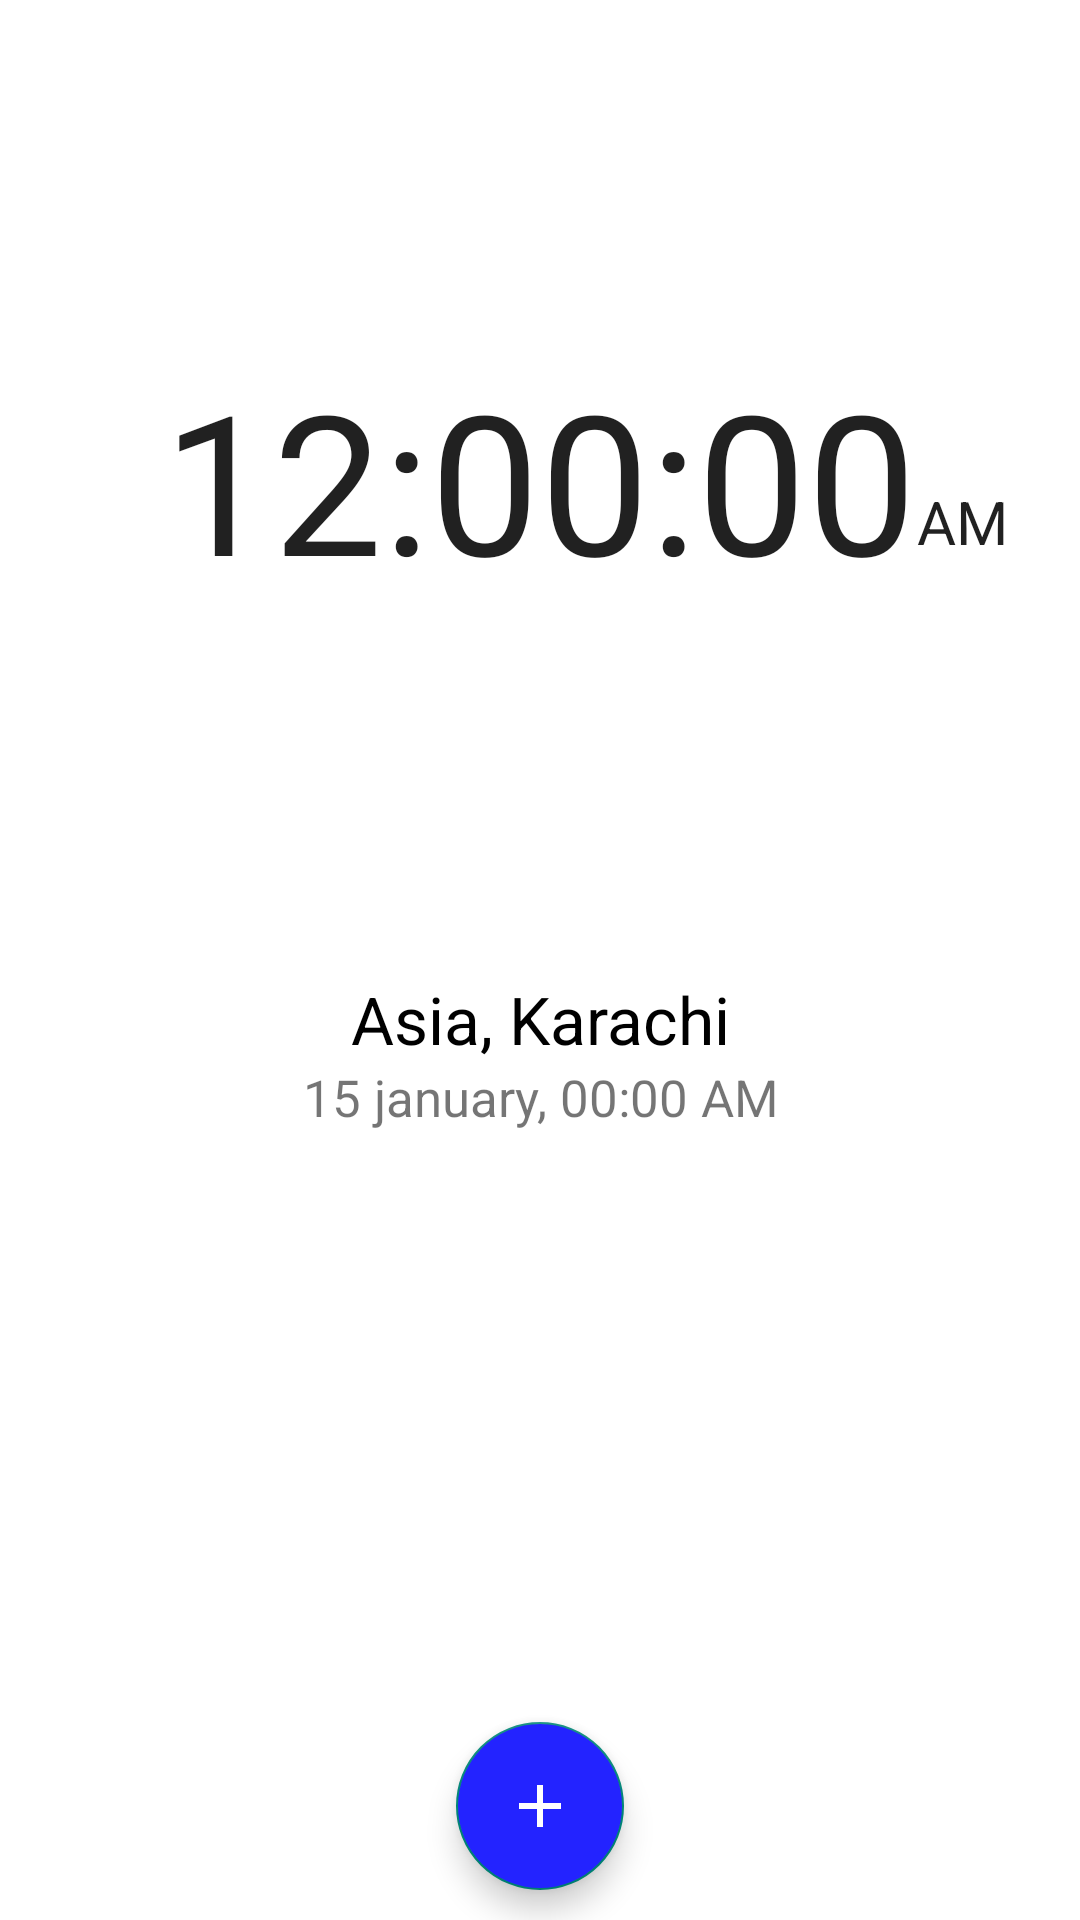

Point at icon controls on the screen. Image size 1080w x 1920h, points as [x,y].
plus: [540,1806]
